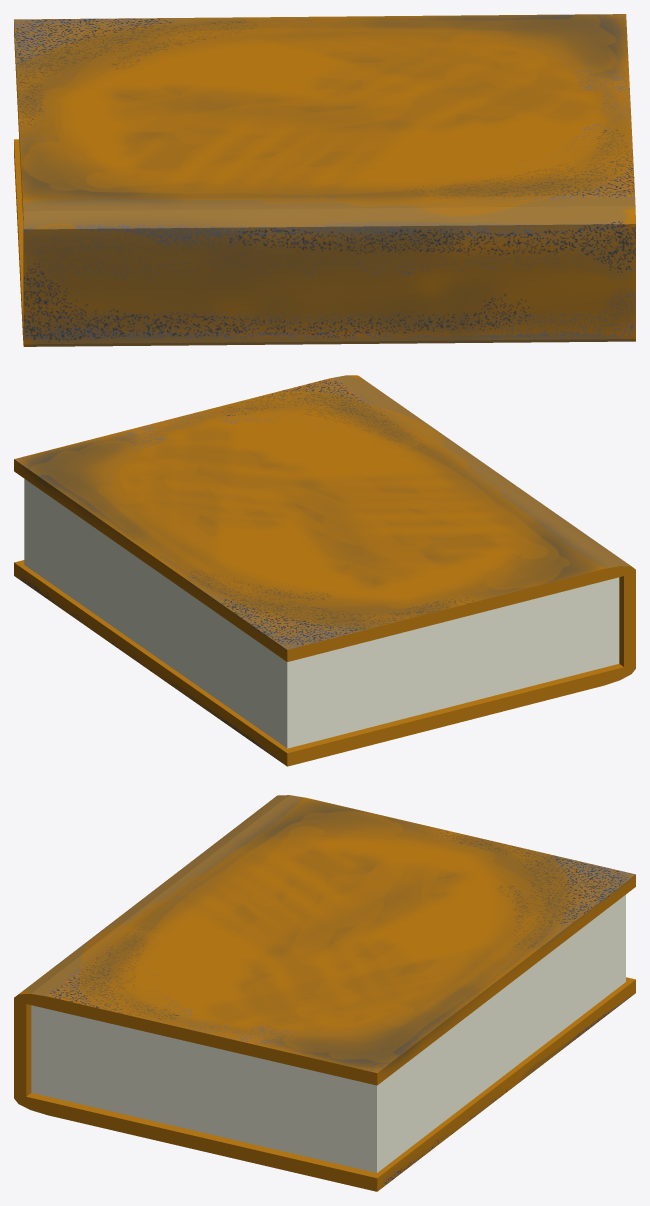
File: Book-1.fbx
3 views of the same model, one above another, from view 1: azimuth 30°, elevation 25°; view 2: azimuth 150°, elevation 25°; view 3: azimuth 270°, elevation 25° (orthographic). The views are drawn at different scales.
Parts seen in each view (by area): view 1: Cube.022; view 2: Cube.022; view 3: Cube.022.
Part boxes in pixels (x1=…): Cube.022: x1=14, y1=14, x2=635, y2=346; Cube.022: x1=14, y1=375, x2=635, y2=766; Cube.022: x1=14, y1=795, x2=635, y2=1191.
Bounding box in the file's own units: 20.76 × 4.06 × 19.27.
2 materials, 1 textured.
